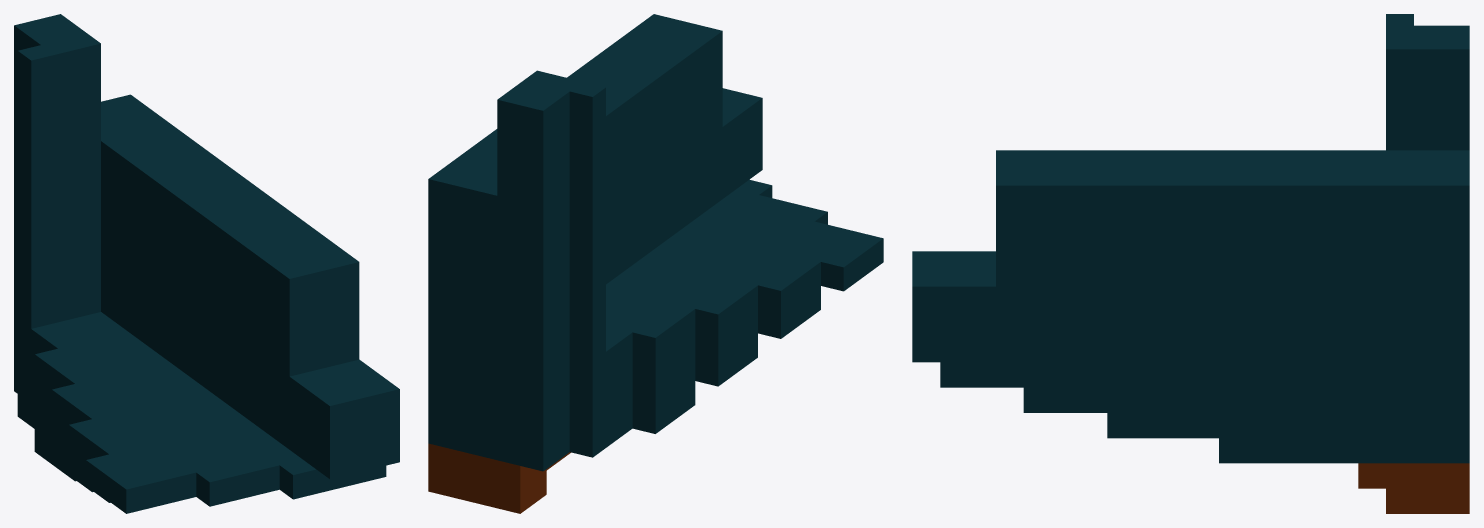
Rendered from Chair1.obj.
The picture shows the model from 3 angles, left to right: view 1: azimuth 30°, elevation 25°; view 2: azimuth 150°, elevation 25°; view 3: azimuth 270°, elevation 25°; orthographic projection. The views are drawn at different scales.
Parts seen in each view (by area): view 1: Chair1; view 2: Chair1; view 3: Chair1.
Part boxes in pixels (x1,y1,x2,y2): Chair1: (14,14,399,513); Chair1: (428,14,883,513); Chair1: (912,14,1469,513).
Size of the model in its own units: 10 by 17 by 20.
1 material, 1 textured.
